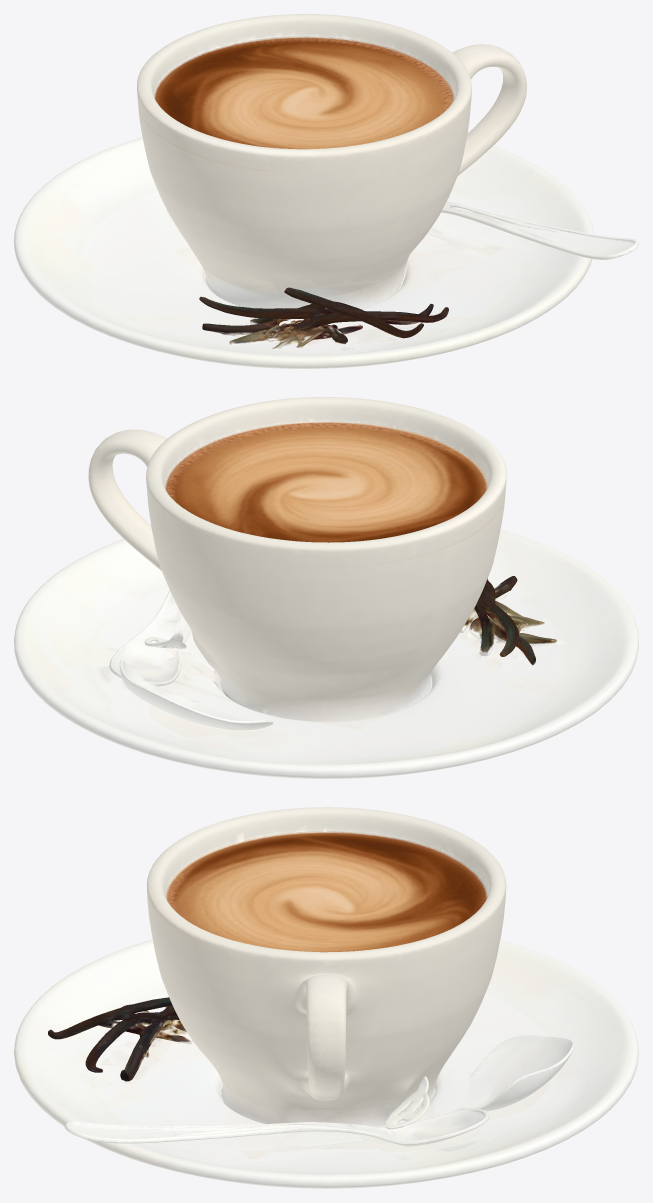
File: Bois Chéri Vanilla Tea.glb
3 views of the same model, one above another, from view 1: azimuth 30°, elevation 25°; view 2: azimuth 150°, elevation 25°; view 3: azimuth 270°, elevation 25° (orthographic). The views are drawn at different scales.
Visible parts, largest first — view 1: Mesh_0; view 2: Mesh_0; view 3: Mesh_0.
Boxes of the visible parts, x1=… form: Mesh_0: x1=14, y1=14, x2=638, y2=368; Mesh_0: x1=14, y1=397, x2=638, y2=778; Mesh_0: x1=14, y1=807, x2=638, y2=1188.
Size of the model in its own units: 0.12 by 0.05 by 0.12.
1 material, 1 textured.
